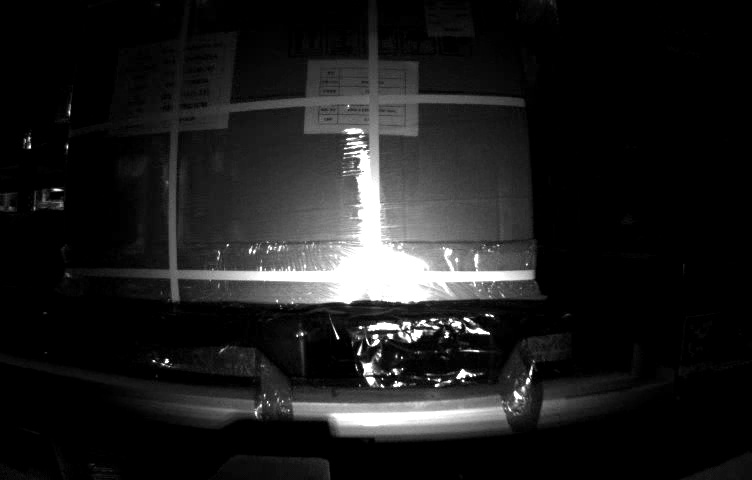True Barcode: (423, 3, 476, 34)
